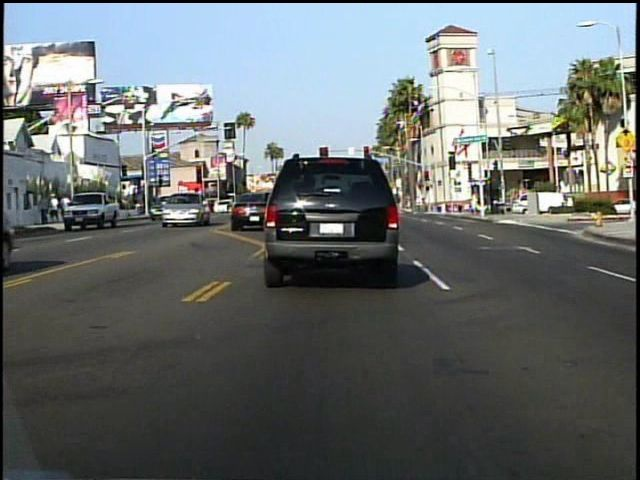person: (168, 191, 183, 222)
